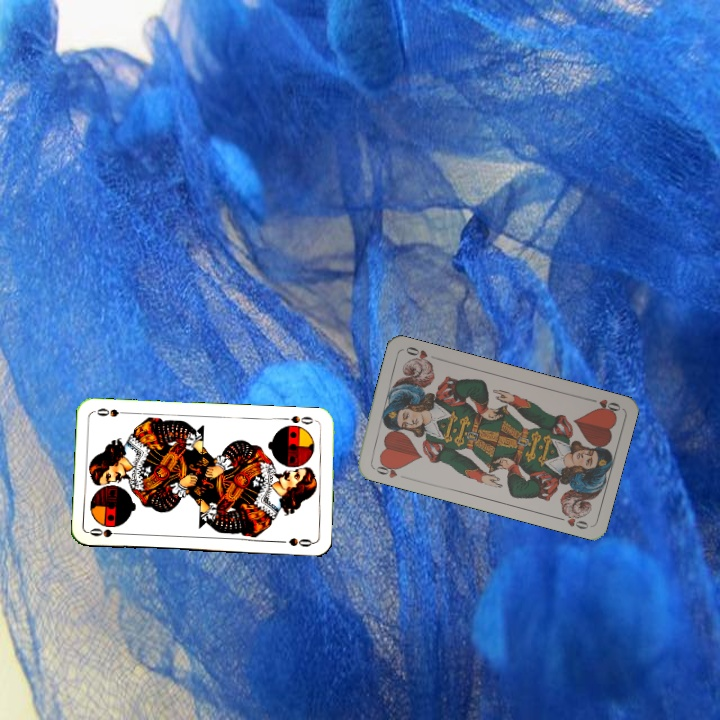HO: (369, 458, 409, 481), (583, 394, 623, 417)
SO: (86, 524, 126, 540), (280, 412, 316, 427)
